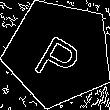P_NE: (30, 22, 88, 84)
